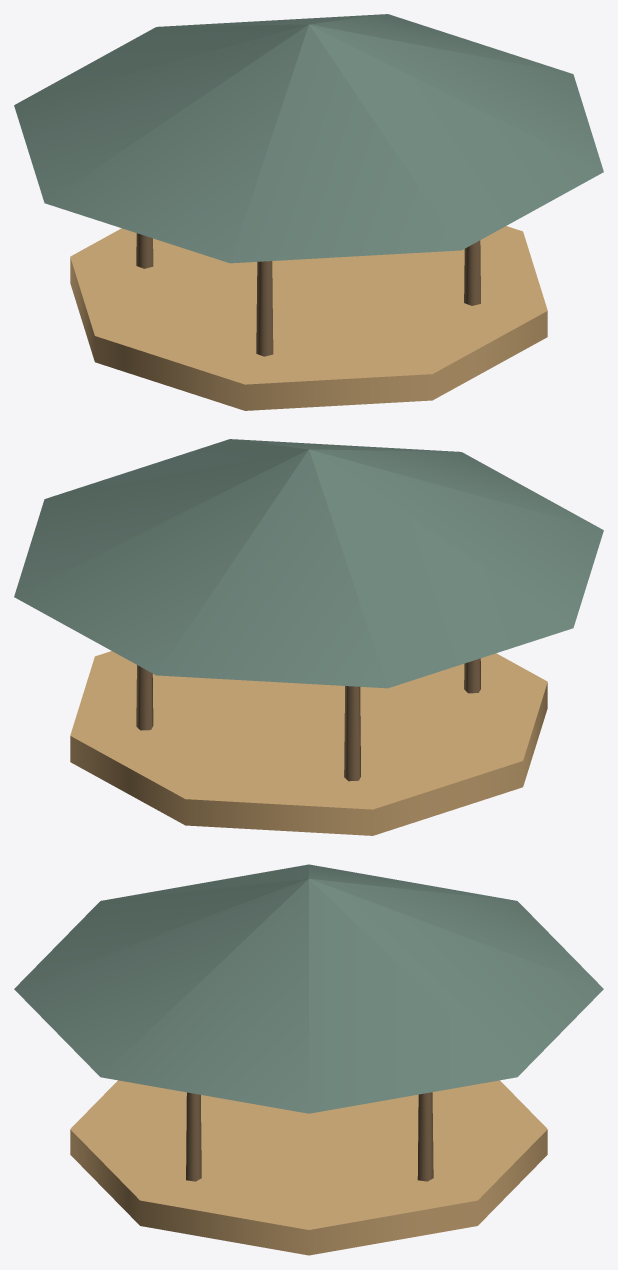
Rendered from Lake_Pavilion.glb.
The picture shows the model from 3 angles, top to bottom: view 1: azimuth 30°, elevation 25°; view 2: azimuth 150°, elevation 25°; view 3: azimuth 270°, elevation 25°; orthographic projection. The views are drawn at different scales.
Visible parts, largest first — view 1: Lake_Pavilion; view 2: Lake_Pavilion; view 3: Lake_Pavilion.
Part boxes in pixels (<box>): Lake_Pavilion: <box>14,14,603,410</box>; Lake_Pavilion: <box>14,439,603,835</box>; Lake_Pavilion: <box>14,864,603,1255</box>.
Size of the model in its own units: 12.6 by 6.5 by 12.6.
